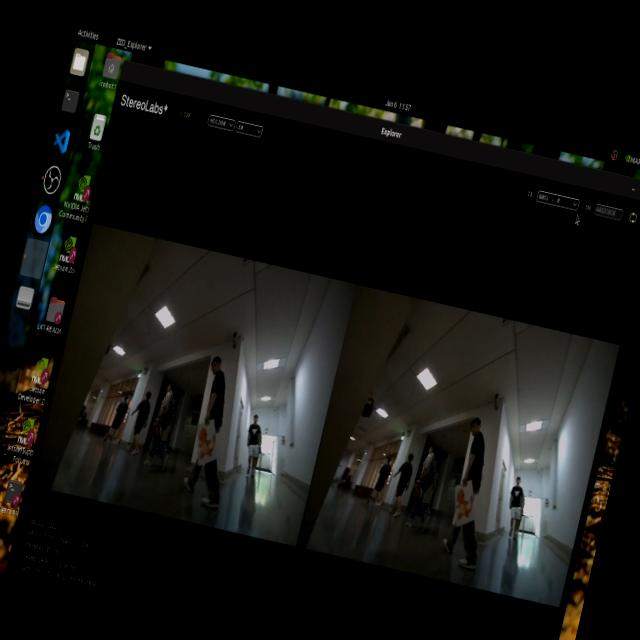red: (442, 478, 480, 524), (189, 417, 223, 466)
